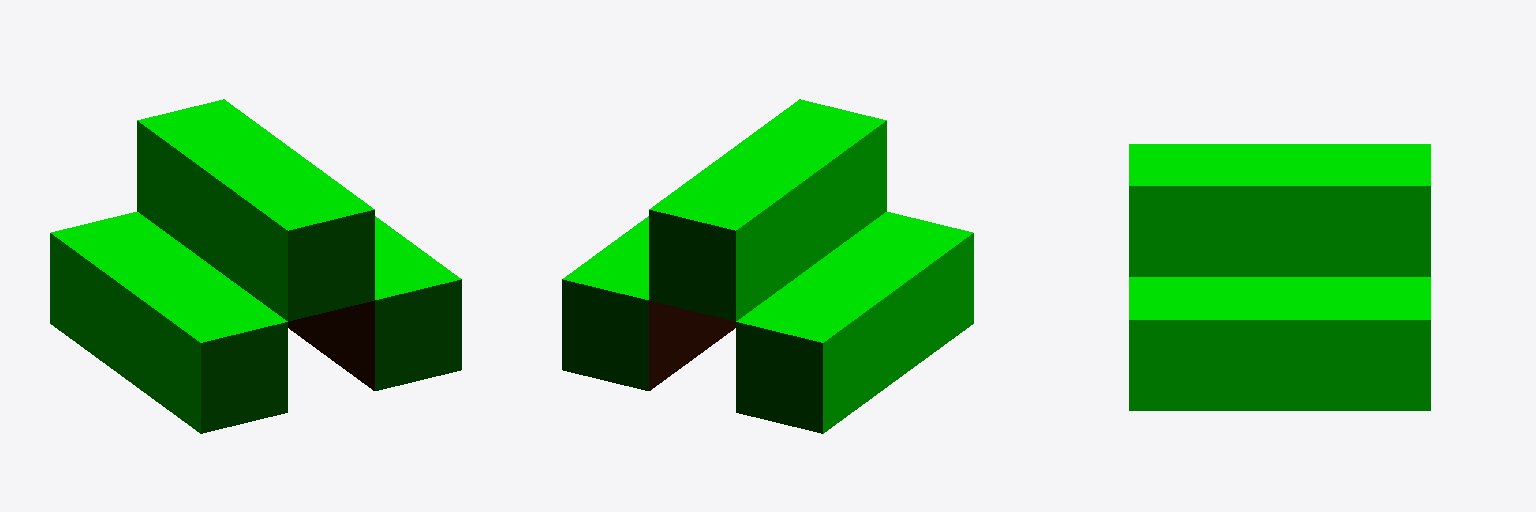
Rendered from tent_blend_11.obj.
3 views of the same model, side by side, from view 1: azimuth 30°, elevation 25°; view 2: azimuth 150°, elevation 25°; view 3: azimuth 270°, elevation 25° (orthographic).
Parts seen in each view (by area): view 1: tent; view 2: tent; view 3: tent.
Boxes of the visible parts, <box> form: tent: <box>50,99,461,433</box>; tent: <box>562,99,973,433</box>; tent: <box>1129,144,1430,410</box>.
Bounding box in the file's own units: 1.5 × 1 × 1.5.